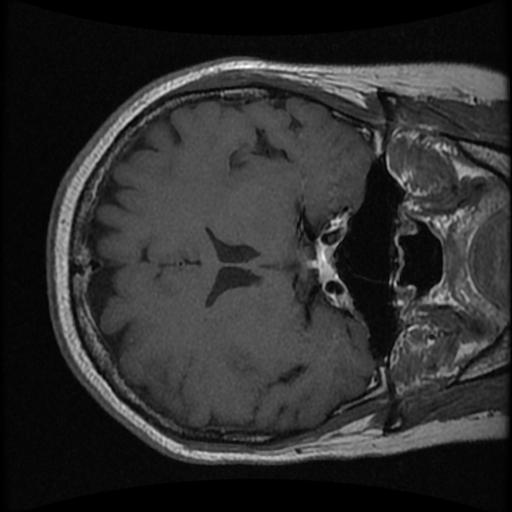pituitary tumour: (315, 242, 334, 281)
